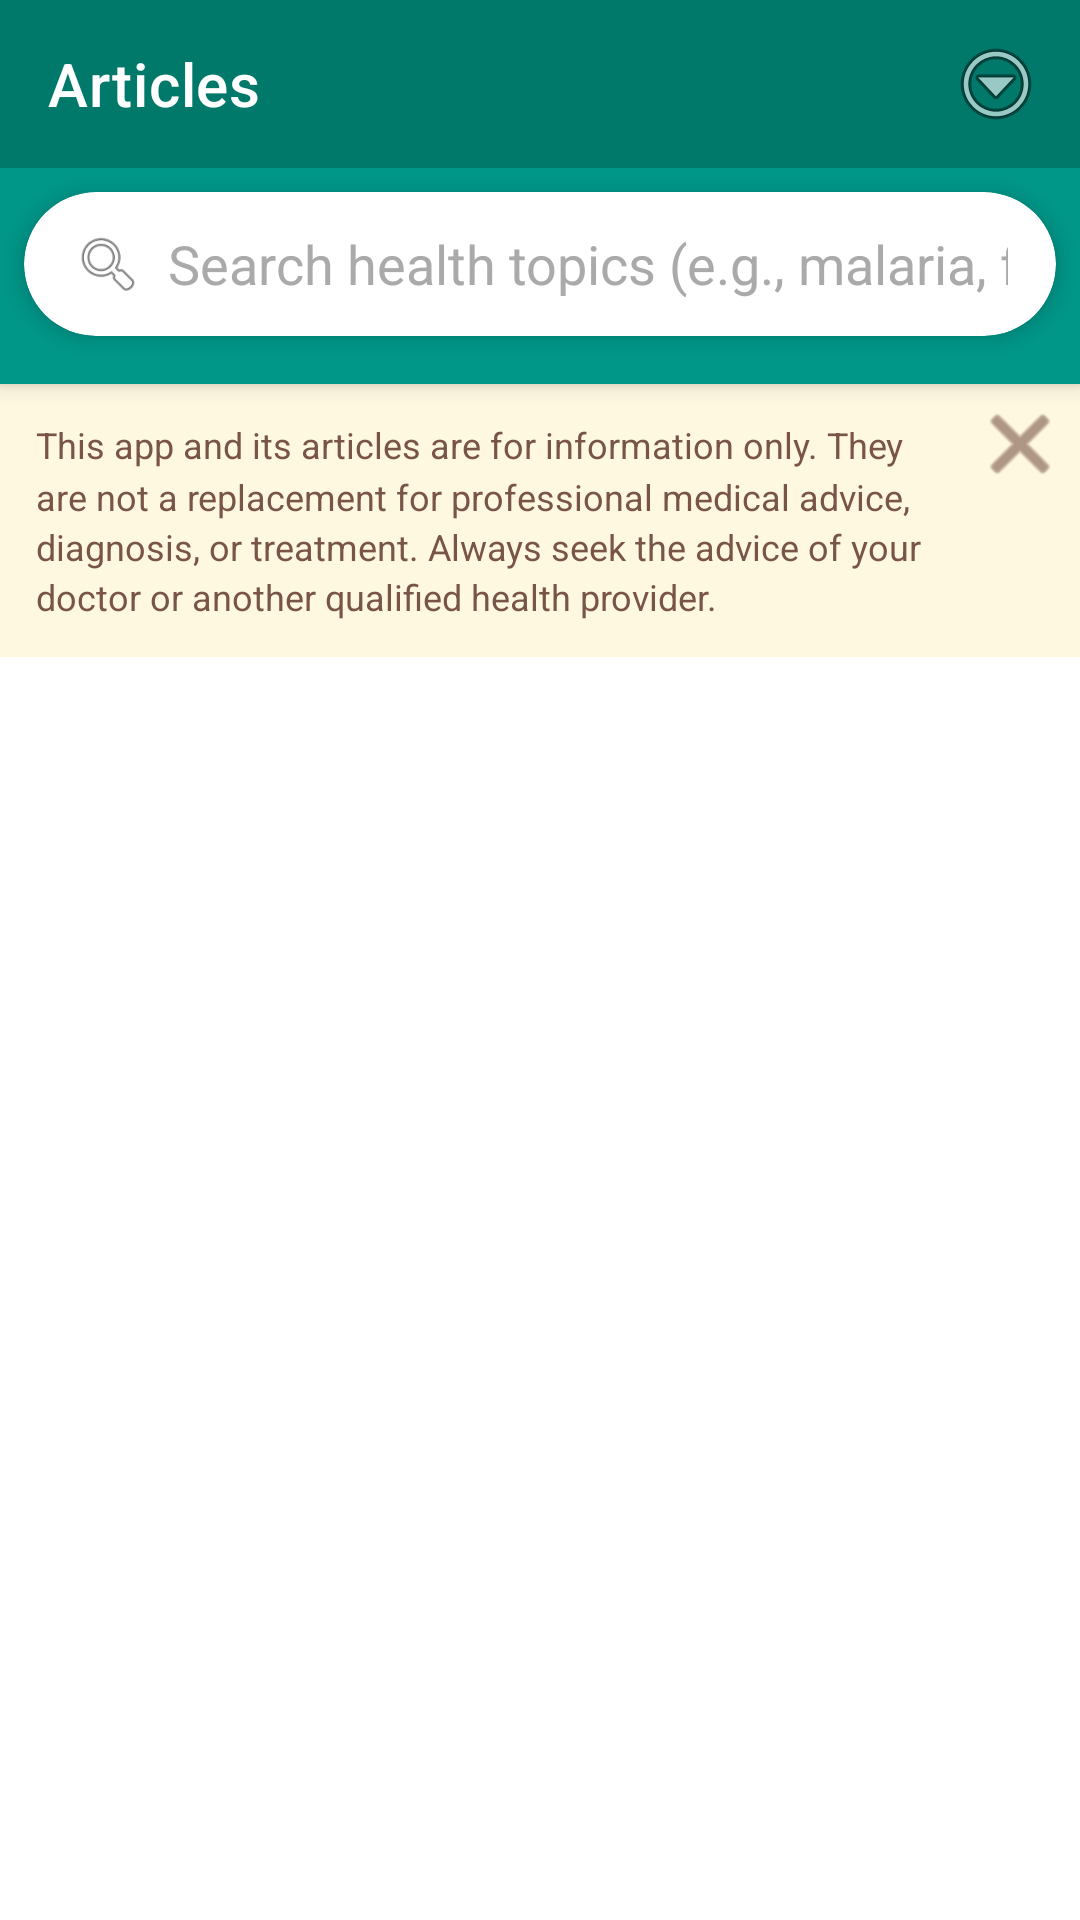

Named icons in this screenshot (1080*1920) and their centers, (x=x, y=y):
Dismiss warning: (x=1020, y=444)
